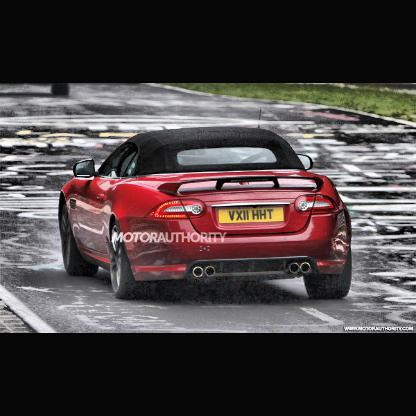Jaguar XK XKR 2012: (61, 126, 354, 302)
